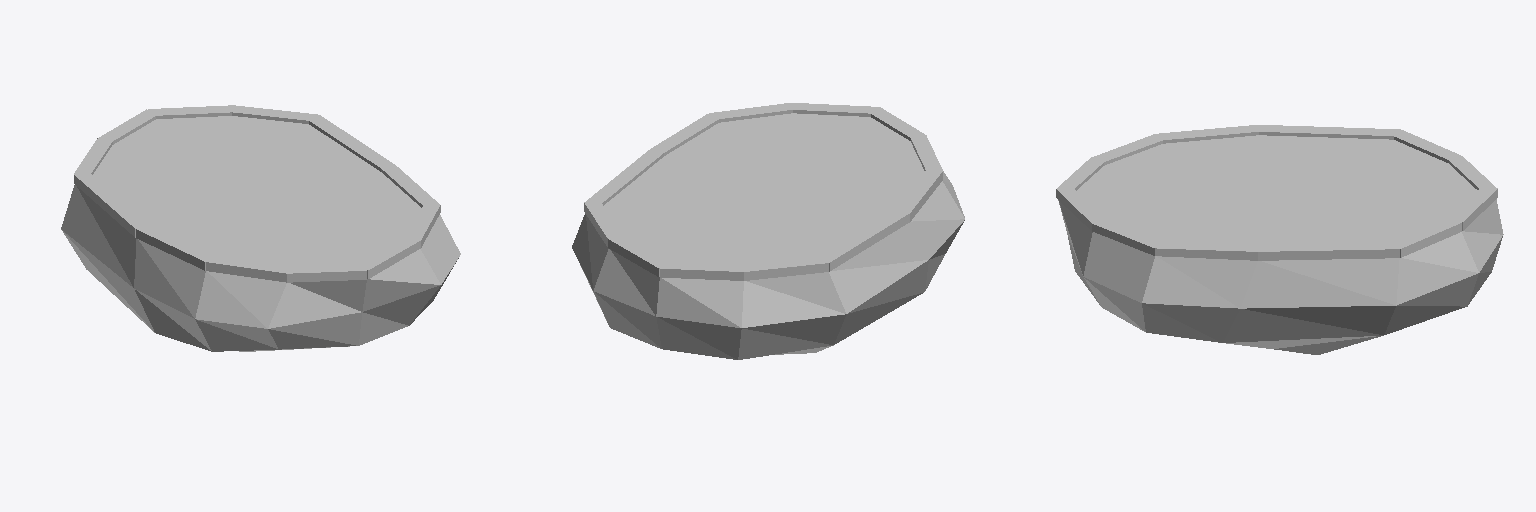
Rendered from Tartaruga-casco.obj.
3 views of the same model, side by side, from view 1: azimuth 30°, elevation 25°; view 2: azimuth 150°, elevation 25°; view 3: azimuth 270°, elevation 25° (orthographic).
Parts seen in each view (by area): view 1: Tartaruga-casco_Cylinder.001; view 2: Tartaruga-casco_Cylinder.001; view 3: Tartaruga-casco_Cylinder.001.
Part boxes in pixels (x1,y1,x2,y2): Tartaruga-casco_Cylinder.001: (61, 105, 460, 351); Tartaruga-casco_Cylinder.001: (572, 103, 964, 359); Tartaruga-casco_Cylinder.001: (1056, 125, 1503, 354).
Size of the model in its own units: 2.36 by 1.07 by 3.23.